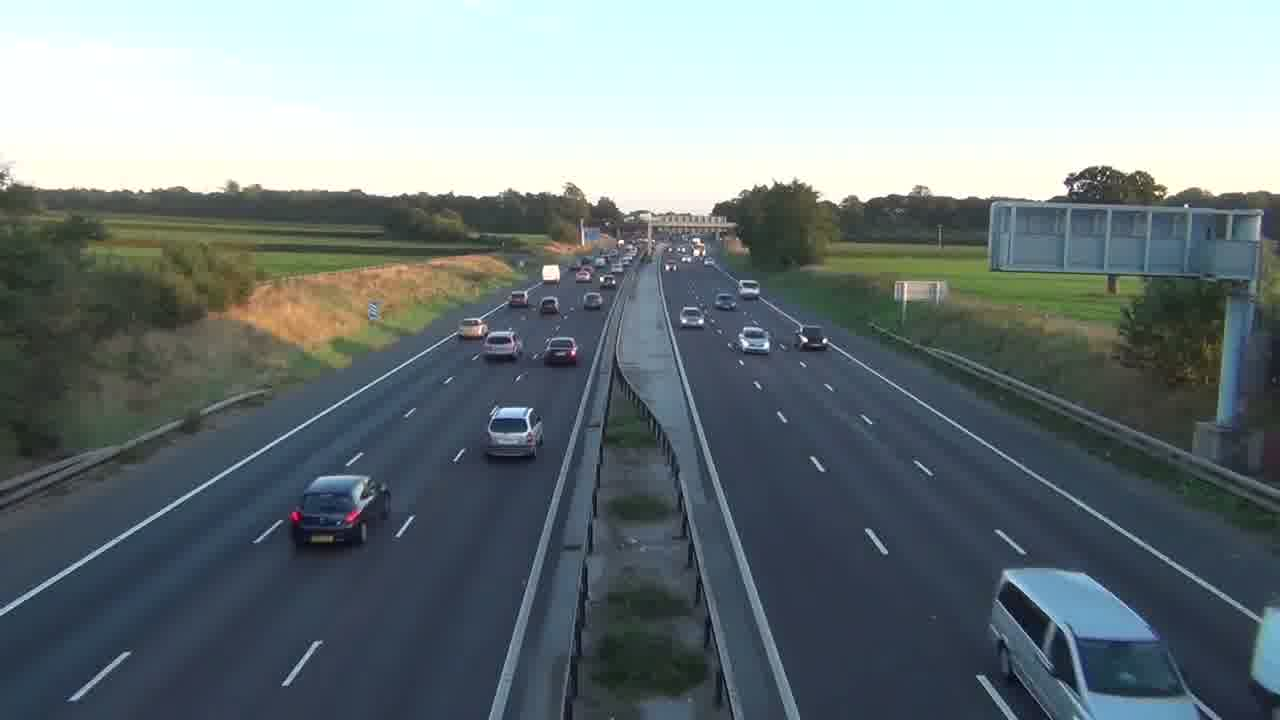car: (988, 564, 1222, 719), (289, 473, 389, 547), (482, 404, 545, 459), (481, 330, 521, 361), (542, 336, 580, 367), (738, 325, 770, 354), (679, 306, 705, 327), (582, 290, 605, 311)
